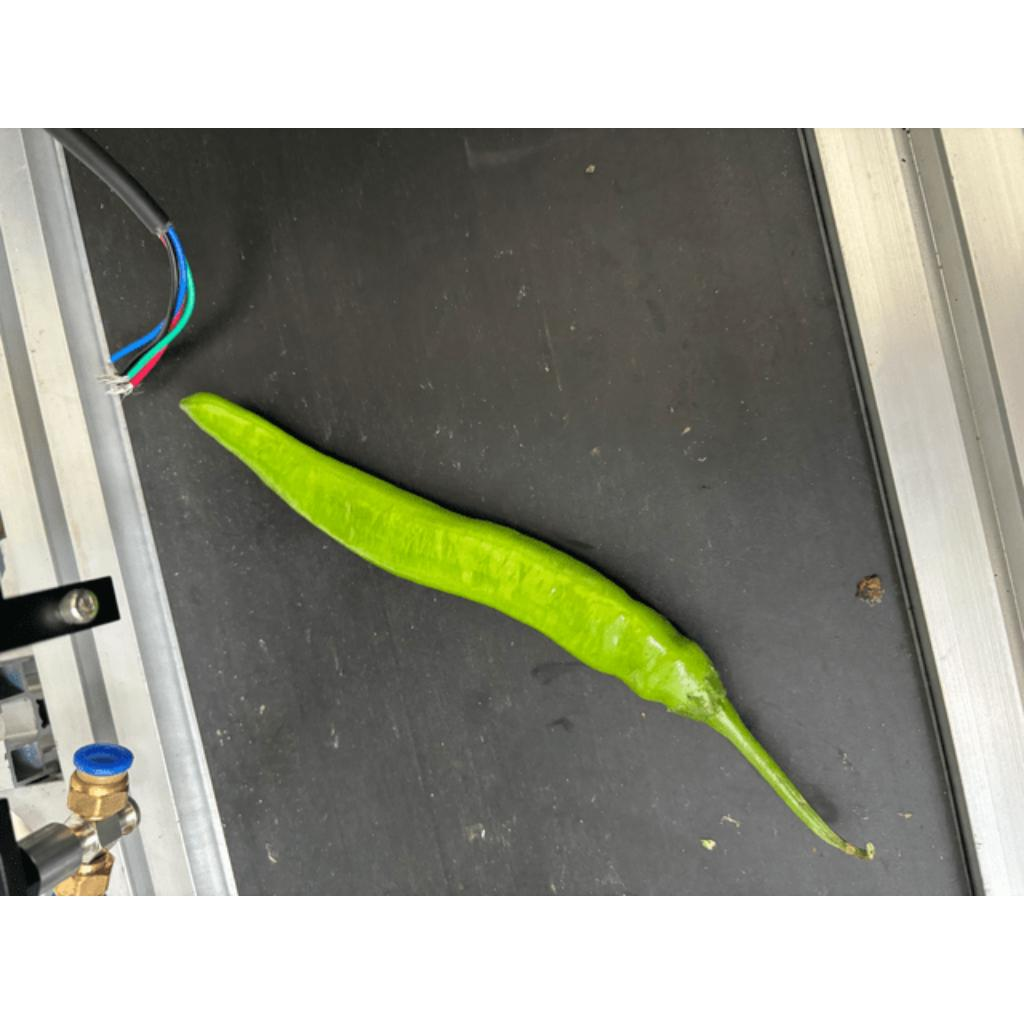chili: (173, 391, 728, 726)
